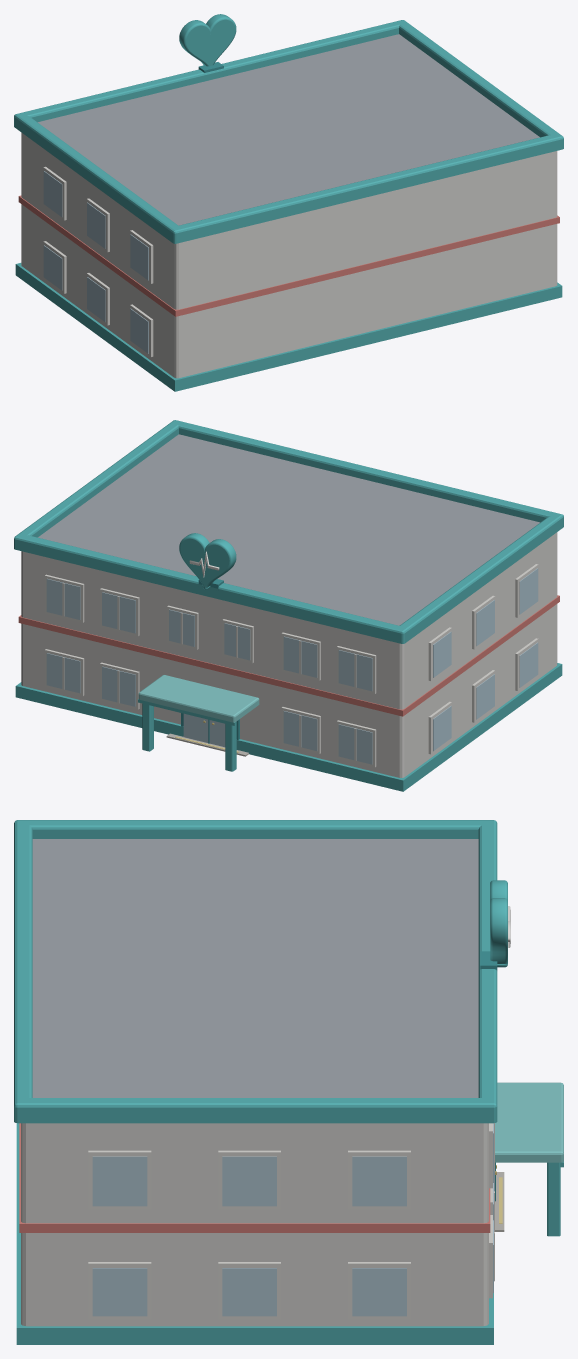
Rendered from centro-hospital-567ca464.glb.
3 renders of one model, top to bottom at view 1: azimuth 30°, elevation 25°; view 2: azimuth 150°, elevation 25°; view 3: azimuth 270°, elevation 25°, orthographic. The views are drawn at different scales.
Size of the model in its own units: 19.8 by 10.07 by 16.1.
